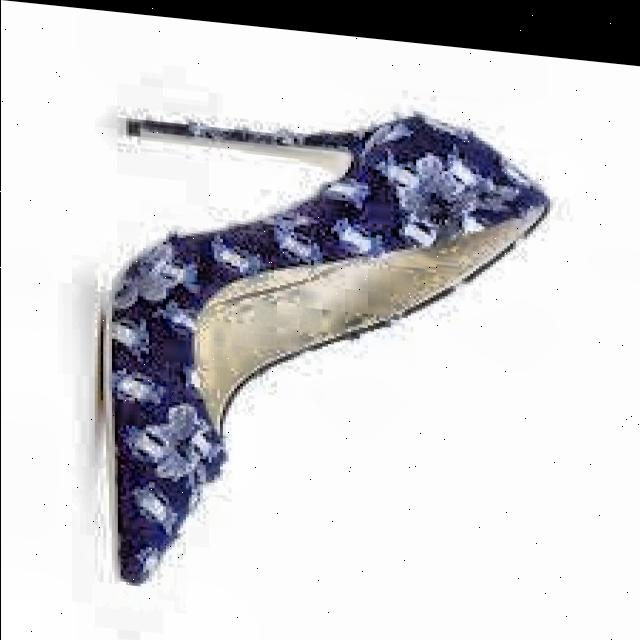shoes: (94, 93, 524, 636)
